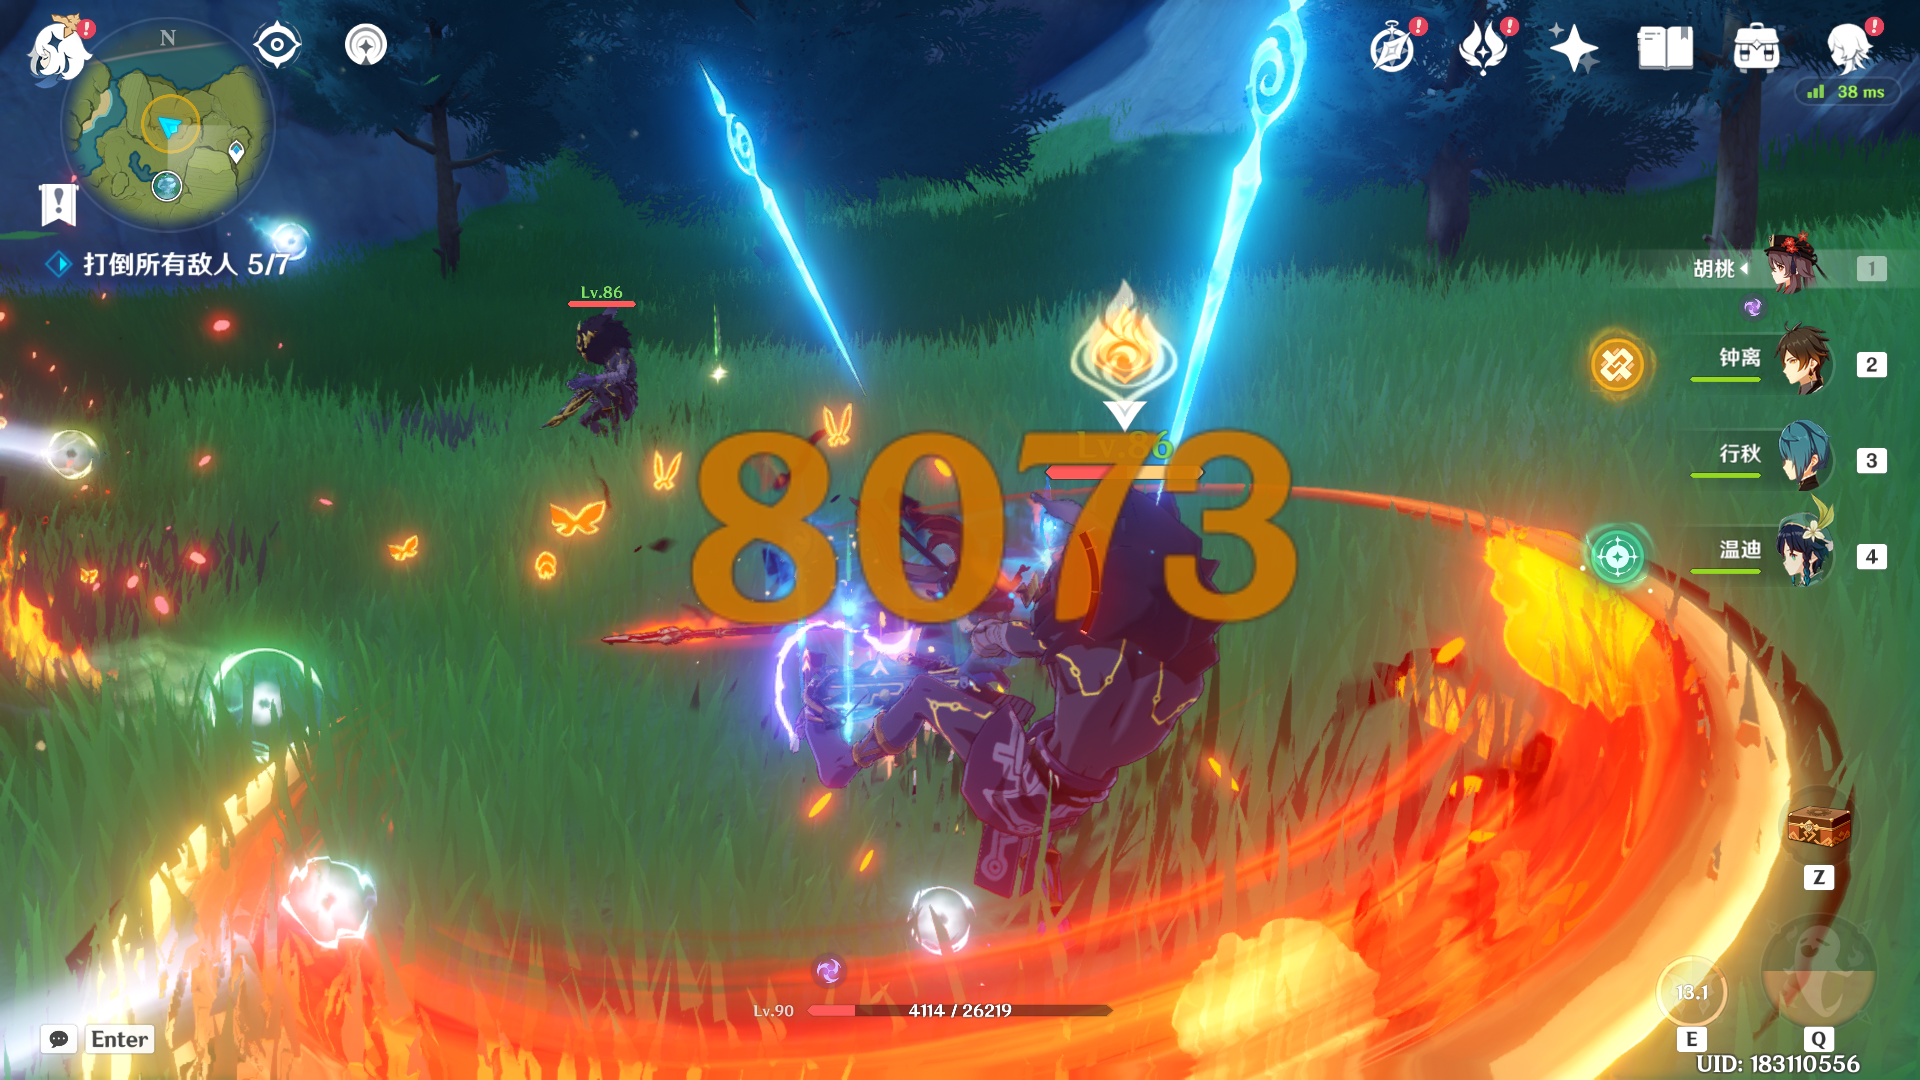hili: (825, 411, 1295, 919), (541, 277, 707, 485)
